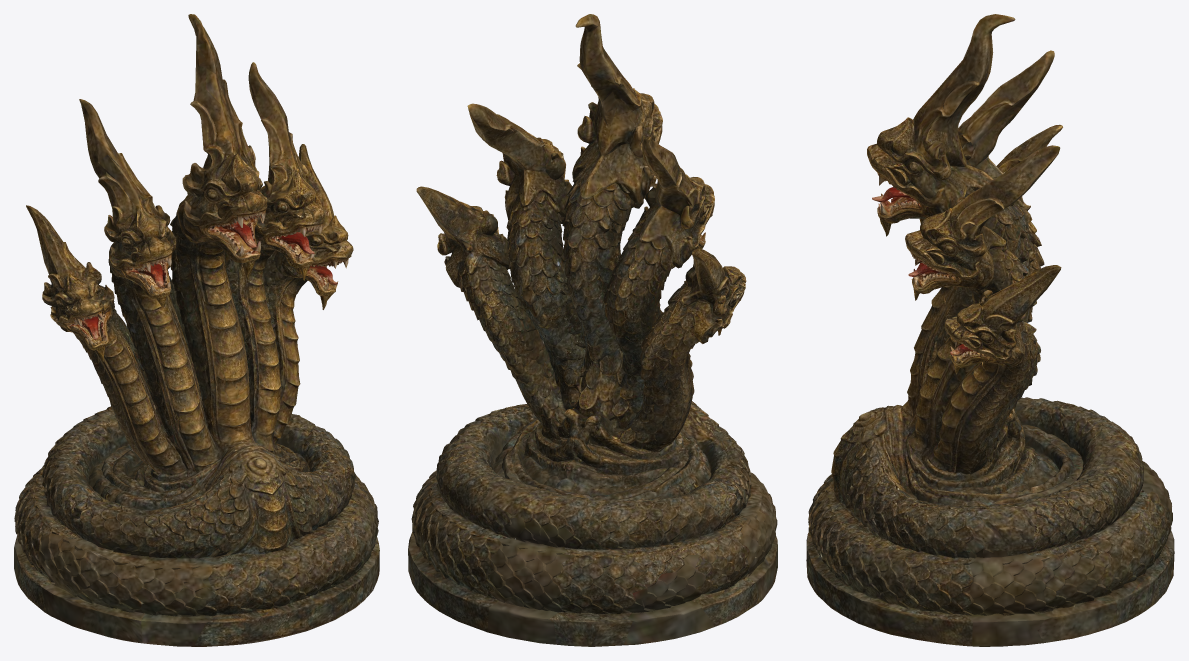
The model's file is w3hnagabronze.glb.
The picture shows the model from 3 angles, left to right: view 1: azimuth 30°, elevation 25°; view 2: azimuth 150°, elevation 25°; view 3: azimuth 270°, elevation 25°; orthographic projection.
Parts seen in each view (by area): view 1: output_unwrapped; view 2: output_unwrapped; view 3: output_unwrapped.
Part boxes in pixels (left/top/right/bottom): output_unwrapped: left=14, top=14, right=379, bottom=646; output_unwrapped: left=408, top=14, right=777, bottom=646; output_unwrapped: left=806, top=14, right=1174, bottom=646.
Size of the model in its own units: 0.6619 by 1.1 by 0.6589.
1 material, 1 textured.
